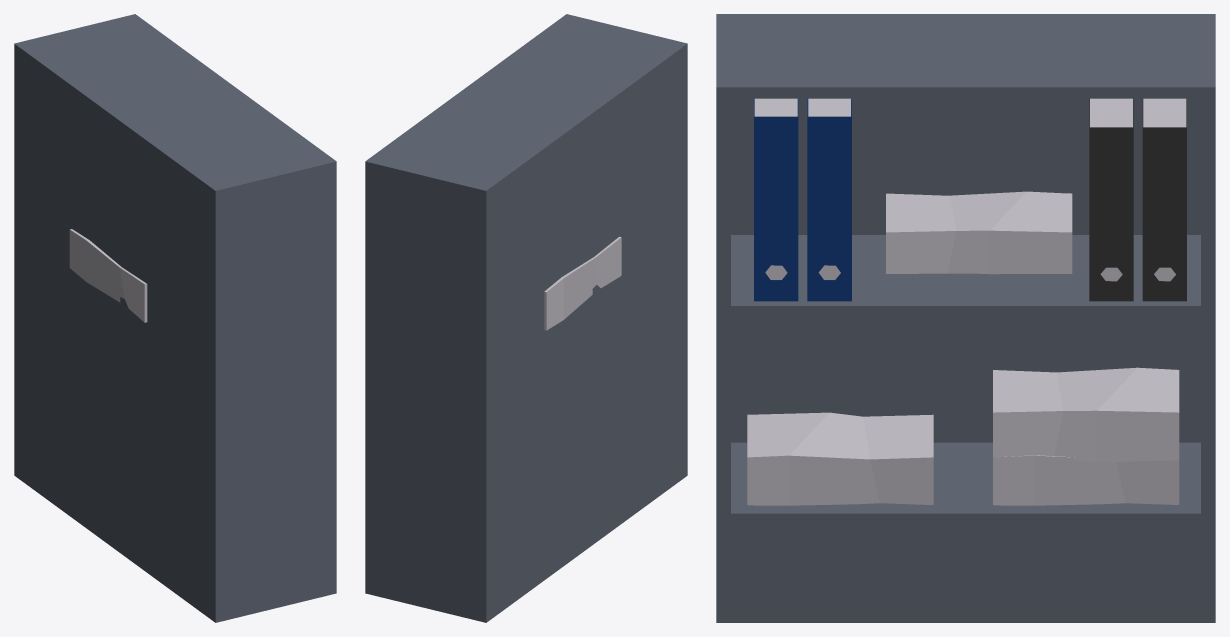
Rendered from cabinet5.fbx.
3 renders of one model, left to right at view 1: azimuth 30°, elevation 25°; view 2: azimuth 150°, elevation 25°; view 3: azimuth 270°, elevation 25°, orthographic. The views are drawn at different scales.
Parts seen in each view (by area): view 1: Cabinet1.011, Cube.168; view 2: Cabinet1.011, Cube.168; view 3: Cabinet1.011, Book0.003, Book0.004, Cube.165, Cube.167, Cube.168, Cube.166.
Part boxes in pixels (x1,y1,x2,y2): Cabinet1.011: (14, 14, 336, 622); Cube.168: (69, 229, 147, 322); Cabinet1.011: (365, 14, 687, 622); Cube.168: (544, 236, 621, 330); Cabinet1.011: (716, 14, 1215, 622); Book0.003: (754, 98, 851, 301); Book0.004: (1089, 98, 1186, 301); Cube.165: (747, 412, 933, 505); Cube.167: (993, 367, 1179, 462); Cube.168: (886, 191, 1072, 274); Cube.166: (993, 455, 1179, 505).
Size of the model in its own units: 0.1919 by 0.6392 by 0.5403.
